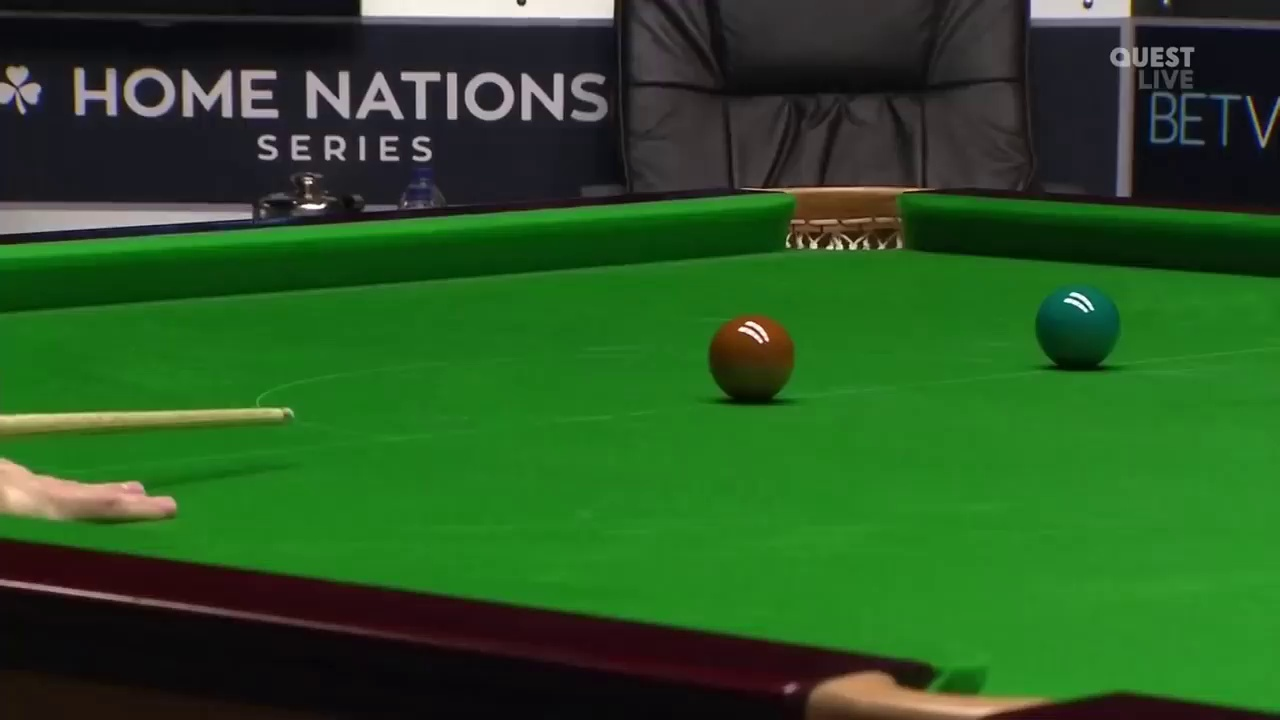ball: (708, 314, 795, 402), (1034, 286, 1118, 366)
